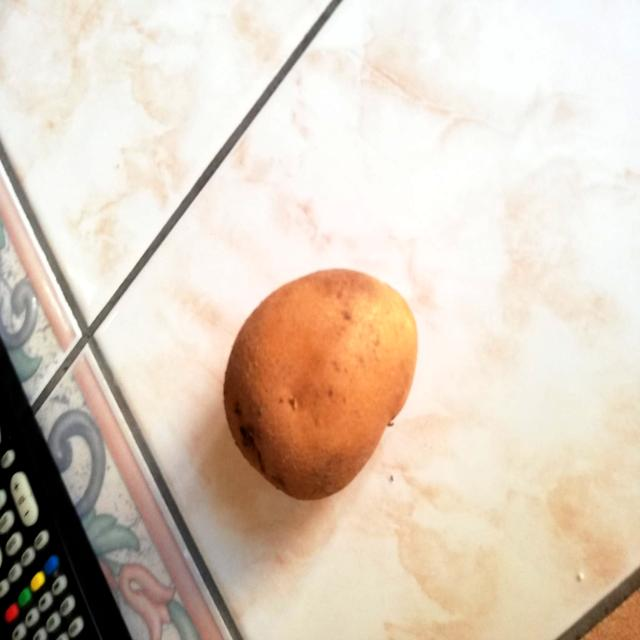potato: (217, 254, 423, 506)
